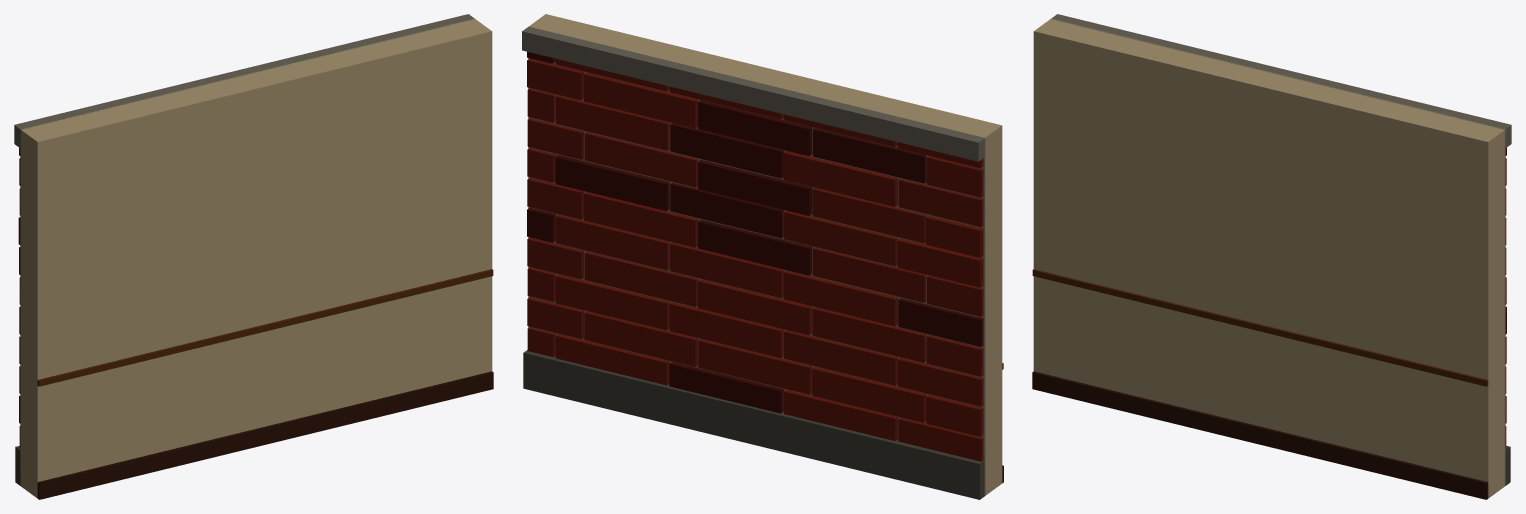
The model's file is SM_Bld_Wall_Brick_Solid.glb.
3 renders of one model, left to right at view 1: azimuth 30°, elevation 25°; view 2: azimuth 150°, elevation 25°; view 3: azimuth 330°, elevation 25°, orthographic.
Visible parts, largest first — view 1: SM_Bld_Wall_Brick_Solid; view 2: SM_Bld_Wall_Brick_Solid; view 3: SM_Bld_Wall_Brick_Solid.
Boxes of the visible parts, left/top/right/bottom form: SM_Bld_Wall_Brick_Solid: left=14, top=14, right=493, bottom=499; SM_Bld_Wall_Brick_Solid: left=522, top=14, right=1003, bottom=499; SM_Bld_Wall_Brick_Solid: left=1032, top=14, right=1511, bottom=499.
Size of the model in its own units: 4 by 3 by 0.385.
1 material, 1 textured.
